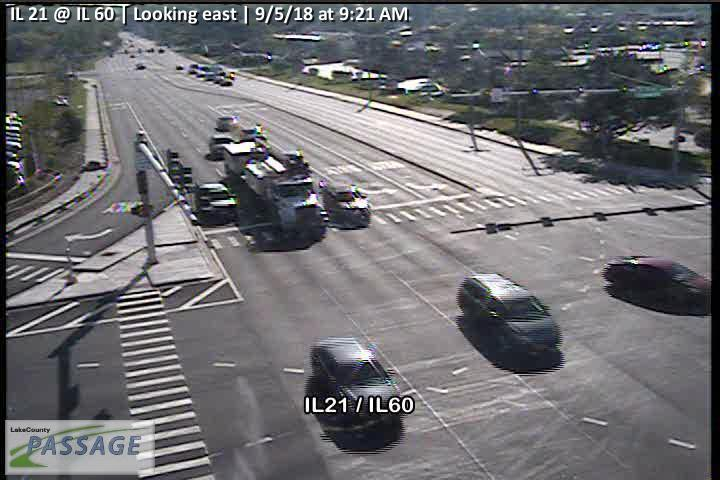SUV: (455, 272, 561, 355), (311, 336, 401, 423), (319, 178, 370, 230), (195, 181, 238, 226), (209, 131, 231, 159), (238, 127, 266, 144), (216, 115, 238, 131)
Sedan: (603, 255, 711, 305)
Truck: (222, 140, 328, 239)
